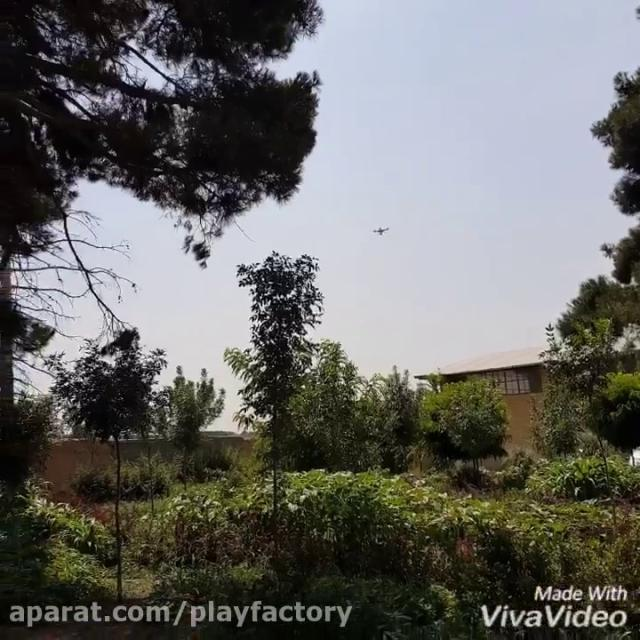drone: (370, 220, 392, 238)
